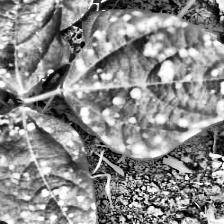Bean Rust: (61, 0, 224, 159), (0, 104, 112, 224), (0, 0, 58, 86)
